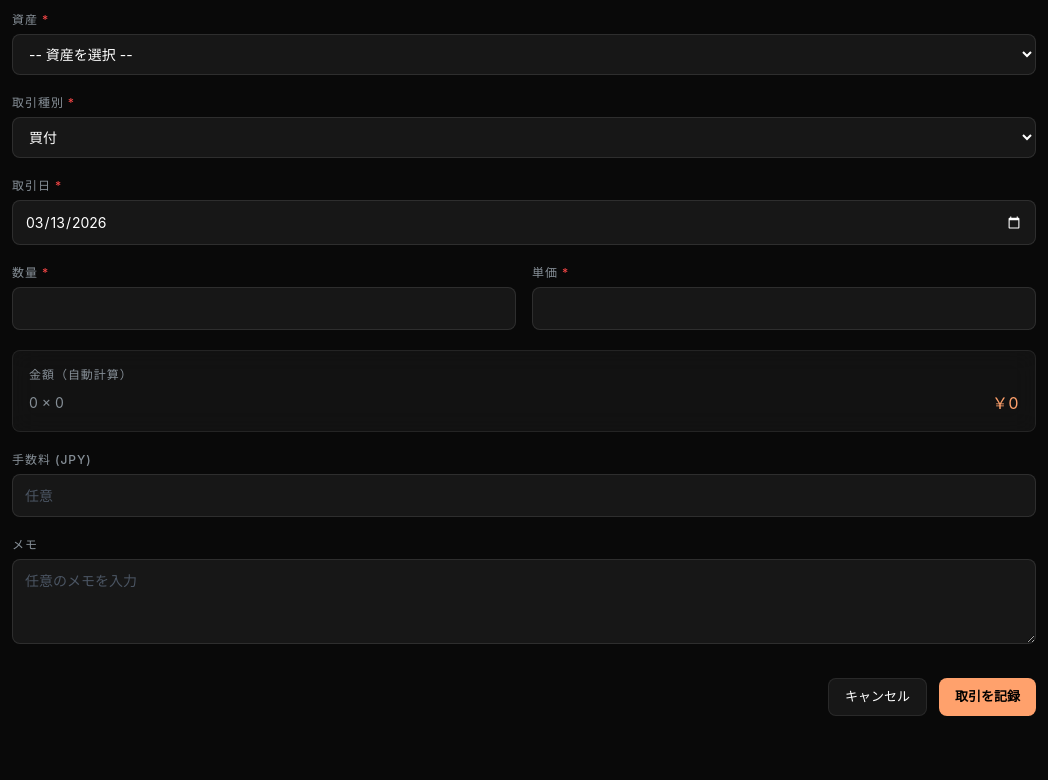
TransactionForm validation › shows error when no asset is selected and form is submitted
# Reset to no asset selected
Select "-- 資産を選択 --" in the dropdown labelled "資産*": (524, 54) [12, 34, 1036, 75]
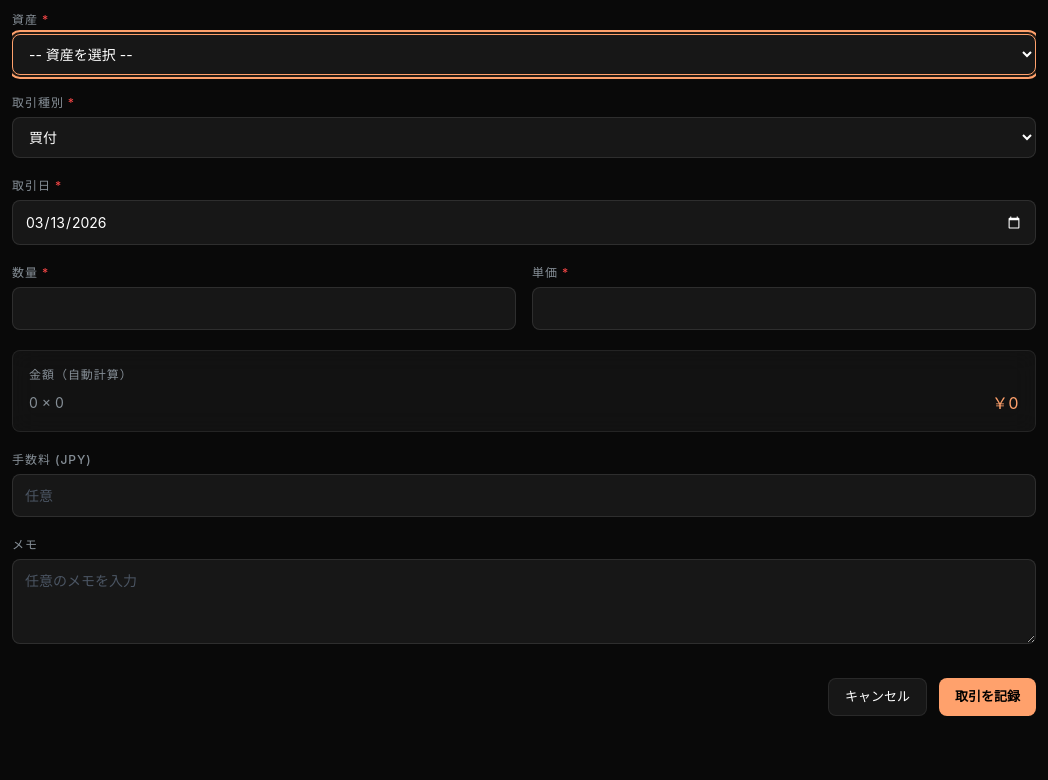
Click the button "取引を記録": (988, 697) [939, 678, 1036, 716]
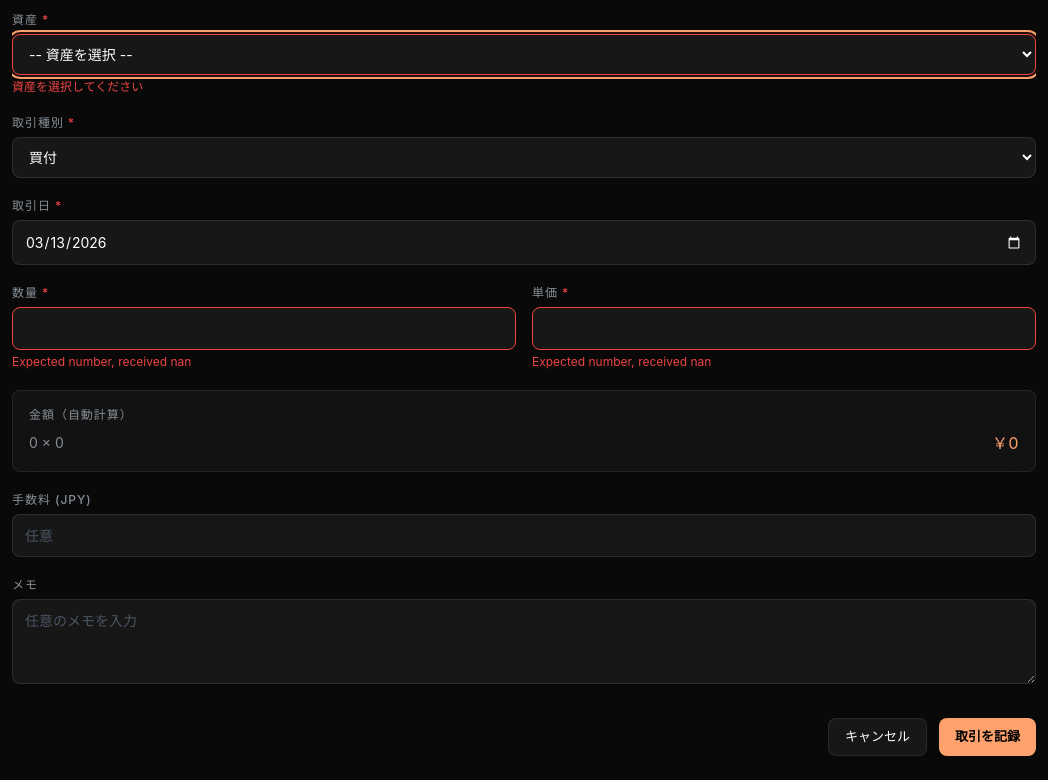
Expected: the message "資産を選択してください" is shown, [12, 79, 143, 94]
